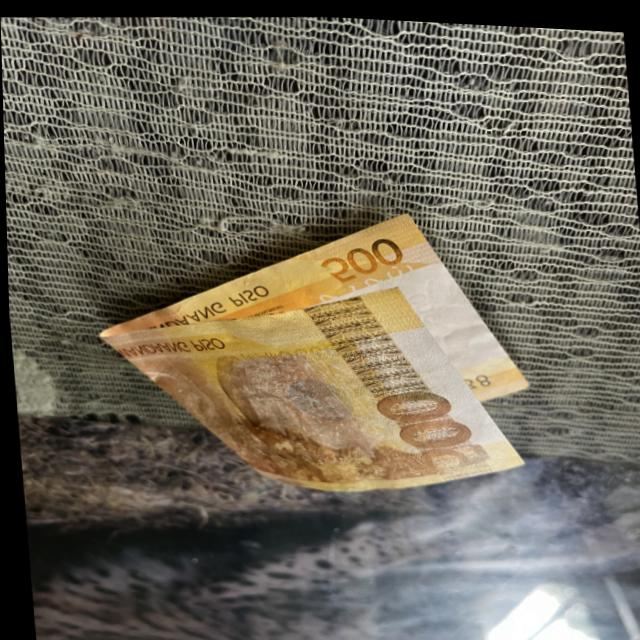see_through_mark: (311, 254, 419, 304)
value_watermark: (402, 284, 445, 322)
